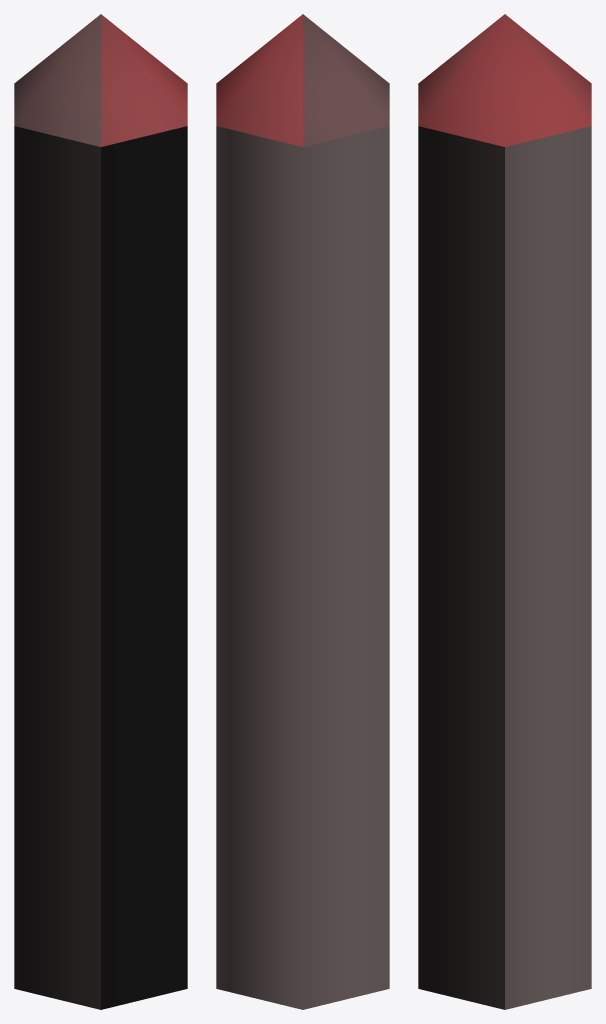
The model's file is Solo.RocketMesh.NoireEclipse.glb.
The picture shows the model from 3 angles, left to right: view 1: azimuth 30°, elevation 25°; view 2: azimuth 150°, elevation 25°; view 3: azimuth 270°, elevation 25°; orthographic projection.
Visible parts, largest first — view 1: Solo.RocketMesh.NoireEclipse; view 2: Solo.RocketMesh.NoireEclipse; view 3: Solo.RocketMesh.NoireEclipse.
Part boxes in pixels (box(x1,y1,x2,y2)): Solo.RocketMesh.NoireEclipse: box(14, 14, 187, 1009); Solo.RocketMesh.NoireEclipse: box(216, 14, 389, 1009); Solo.RocketMesh.NoireEclipse: box(418, 14, 591, 1009).
Bounding box in the file's own units: 0.2 × 1.05 × 0.1732.
Materials: 1 (1 with a texture image).
